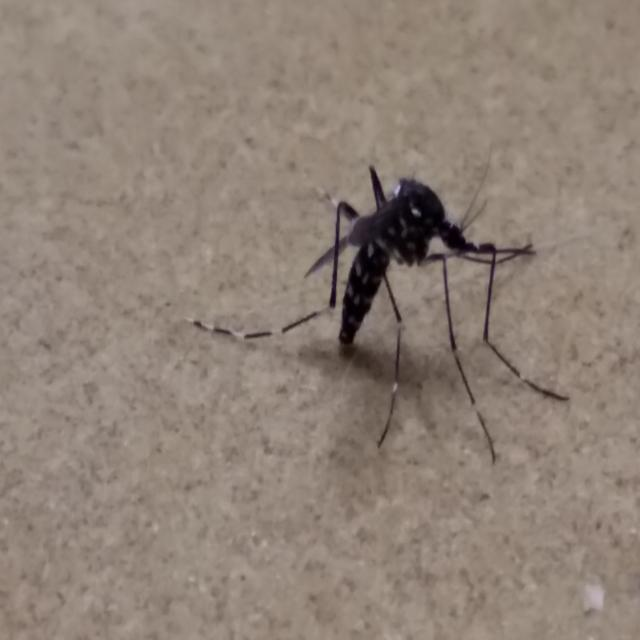albopictus: (244, 122, 565, 482)
